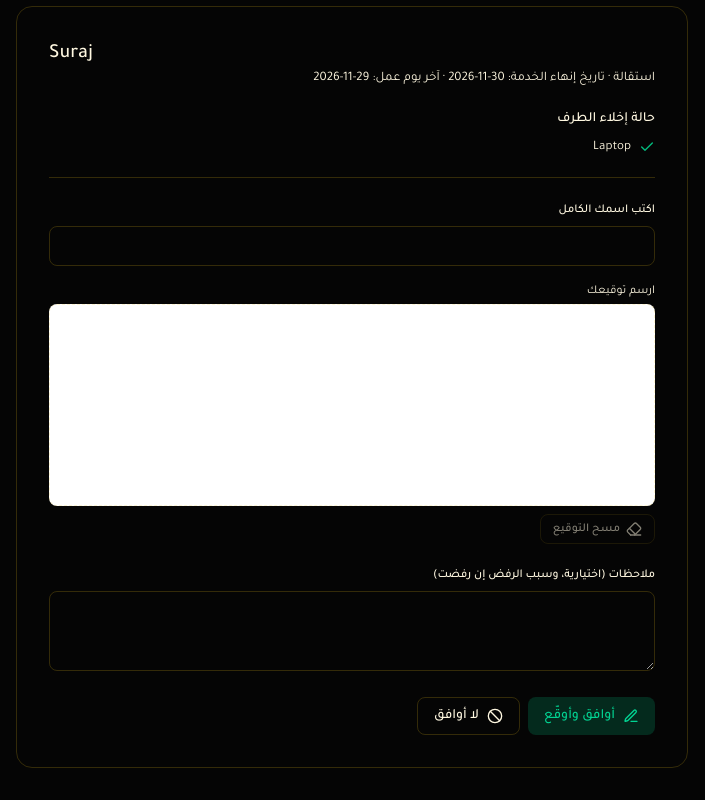
Scenario: PublicExitSign › shows the backend's reason when the decision is refused
The image size is (705, 800).
(page scrolled)
Expected: the heading "Suraj" is shown, [49,44,93,64]
Step 1. Click the button "لا أوافق" → (468, 716), box [417,697,520,735]
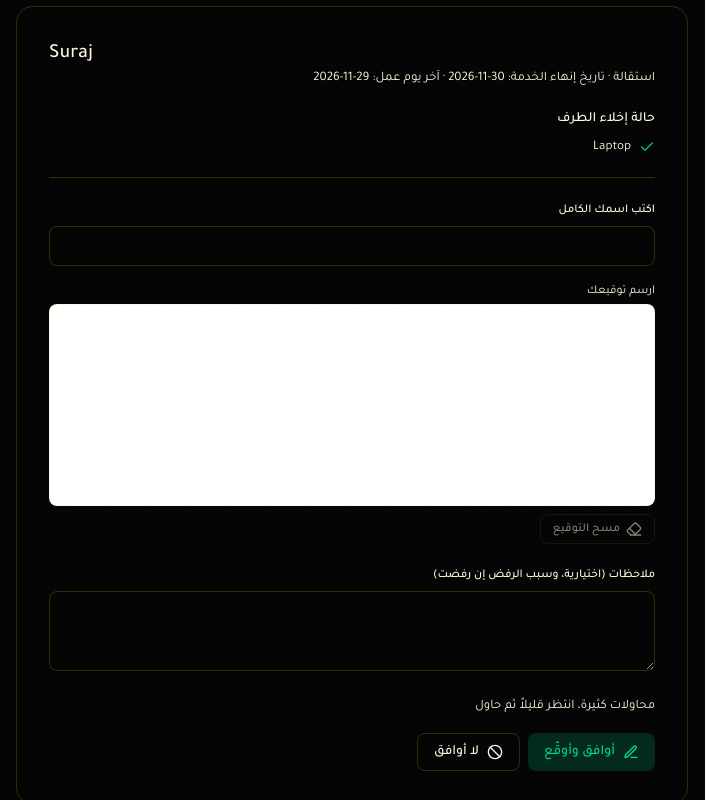
Result: the text "محاولات كثيرة، انتظر قليلاً ثم حاول" is shown at [475,700,655,713]
